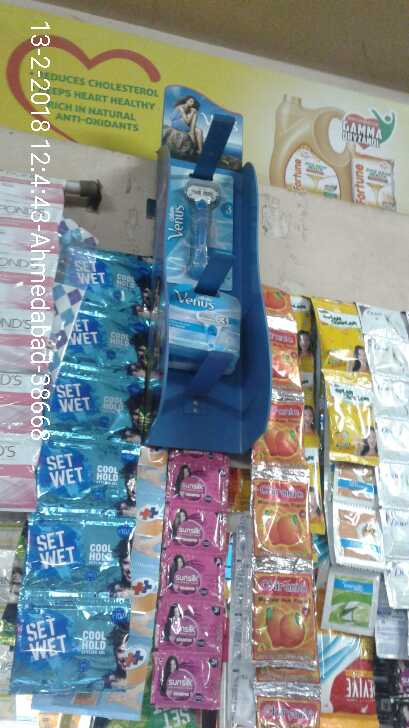venus: (171, 157, 242, 291), (163, 283, 242, 360)
